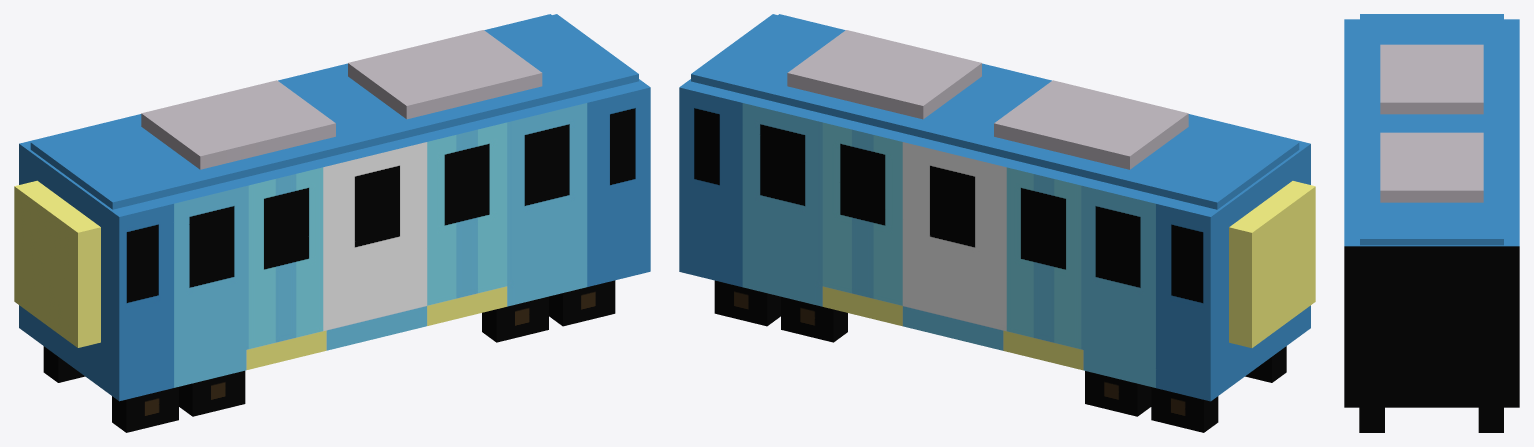
The model's file is traincar.obj.
The picture shows the model from 3 angles, left to right: view 1: azimuth 30°, elevation 25°; view 2: azimuth 150°, elevation 25°; view 3: azimuth 270°, elevation 25°; orthographic projection. The views are drawn at different scales.
Visible parts, largest first — view 1: traincar:group4 traincar:pCube77 traincar:polySurface1 group3; view 2: traincar:group4 traincar:pCube77 traincar:polySurface1 group3; view 3: traincar:group4 traincar:pCube77 traincar:polySurface1 group3.
Part boxes in pixels (<box>): traincar:group4 traincar:pCube77 traincar:polySurface1 group3: <box>14,14,650,432</box>; traincar:group4 traincar:pCube77 traincar:polySurface1 group3: <box>679,14,1315,432</box>; traincar:group4 traincar:pCube77 traincar:polySurface1 group3: <box>1344,14,1519,432</box>.
Size of the model in its own units: 8.68 by 3.69 by 2.72.
